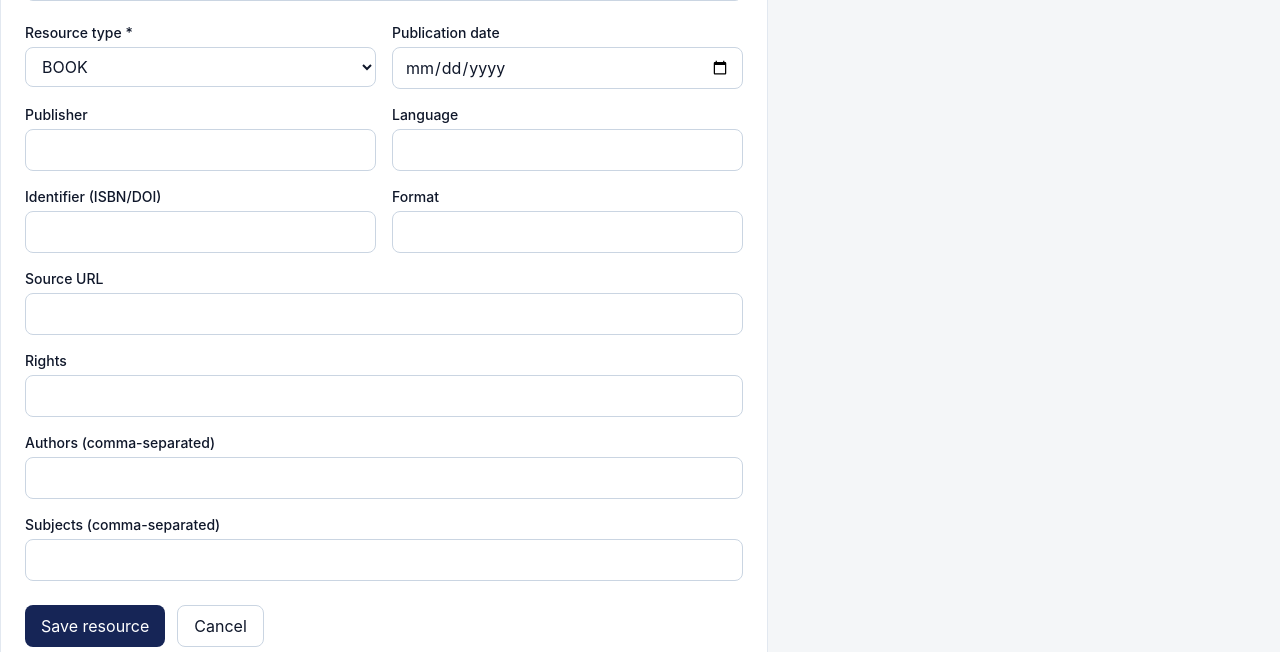
Test case: ResourceFormPage › validates required title
(page scrolled)
Click the button "Save resource" at [95, 626], box [25, 605, 165, 647]
(page scrolled)
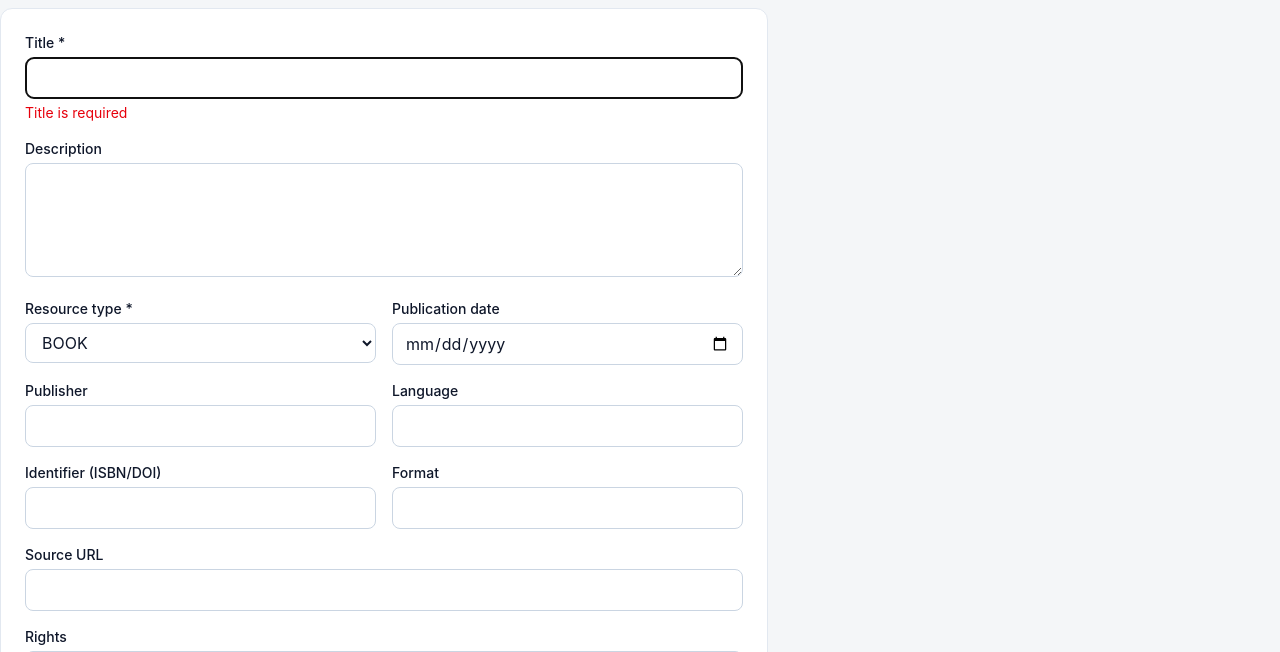
Expected: the text "Title is required" is shown, [25, 104, 127, 121]
